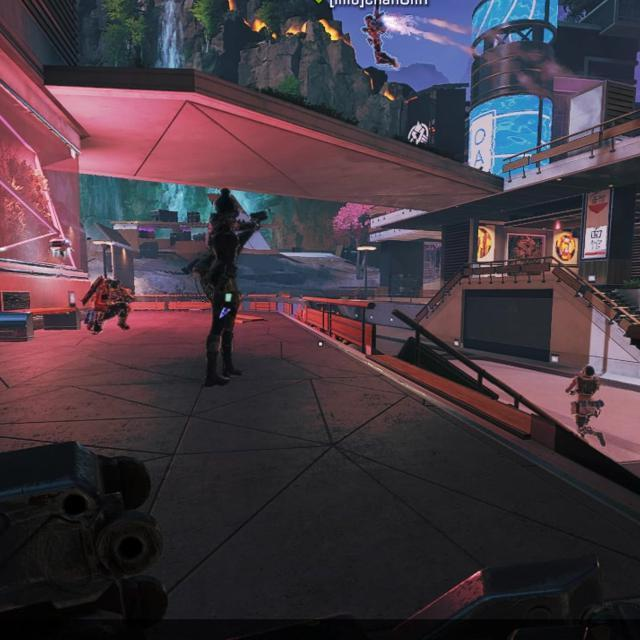avatar: (194, 185, 251, 390), (563, 363, 608, 447), (361, 13, 400, 72)
